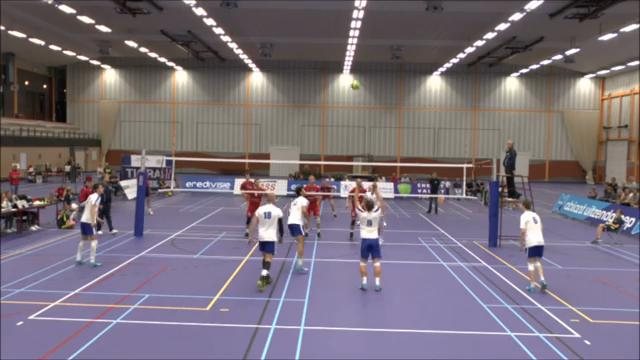ricezione: (350, 182, 389, 293)
